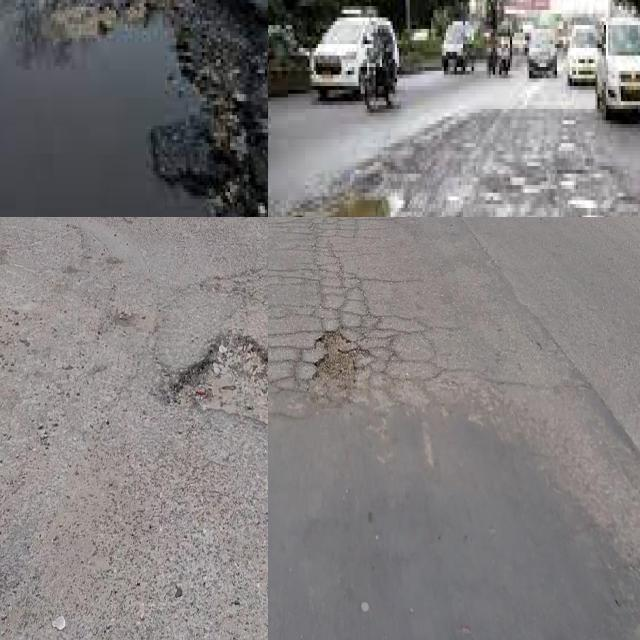Pothole: (164, 329, 268, 425), (308, 324, 372, 390)
